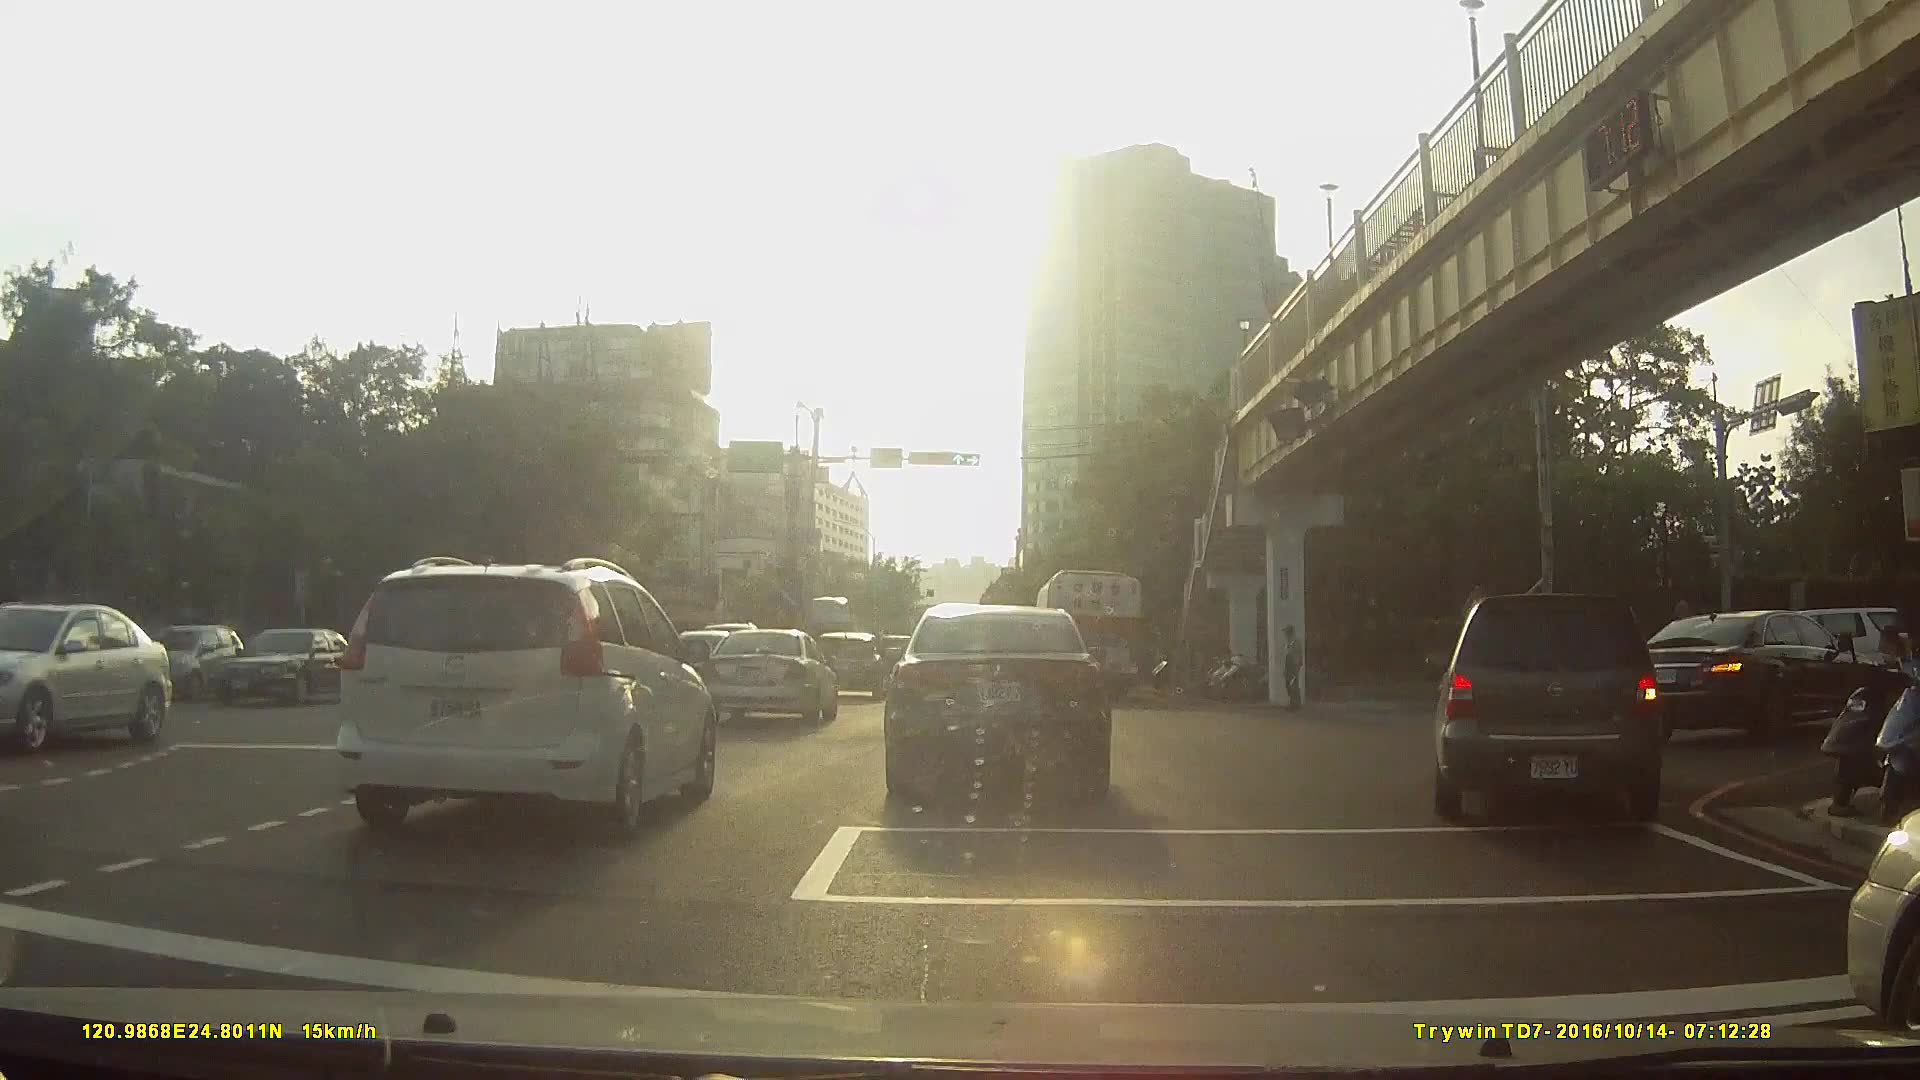pedestrian: (1277, 623, 1314, 717)
vehicle: (336, 553, 719, 839), (1422, 588, 1678, 828), (885, 599, 1111, 810), (1623, 610, 1887, 745), (8, 601, 193, 749), (179, 627, 381, 718), (1032, 567, 1143, 703), (703, 628, 841, 730), (115, 623, 246, 701), (814, 631, 890, 702)
